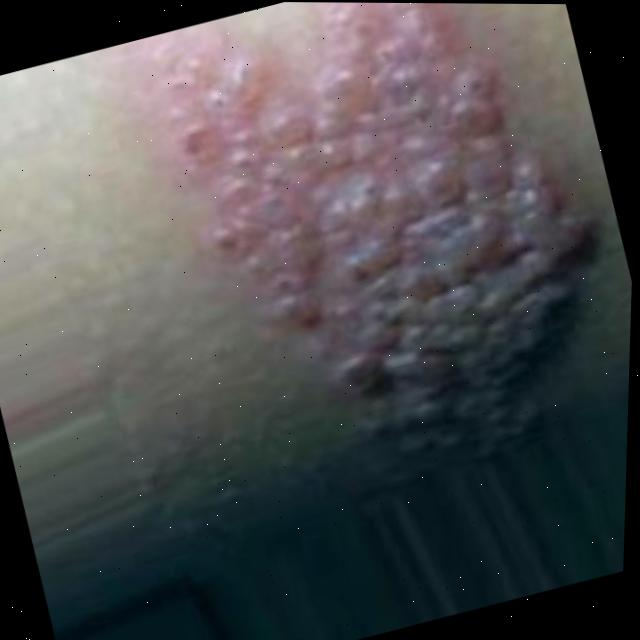Shingles: (139, 1, 640, 493)
